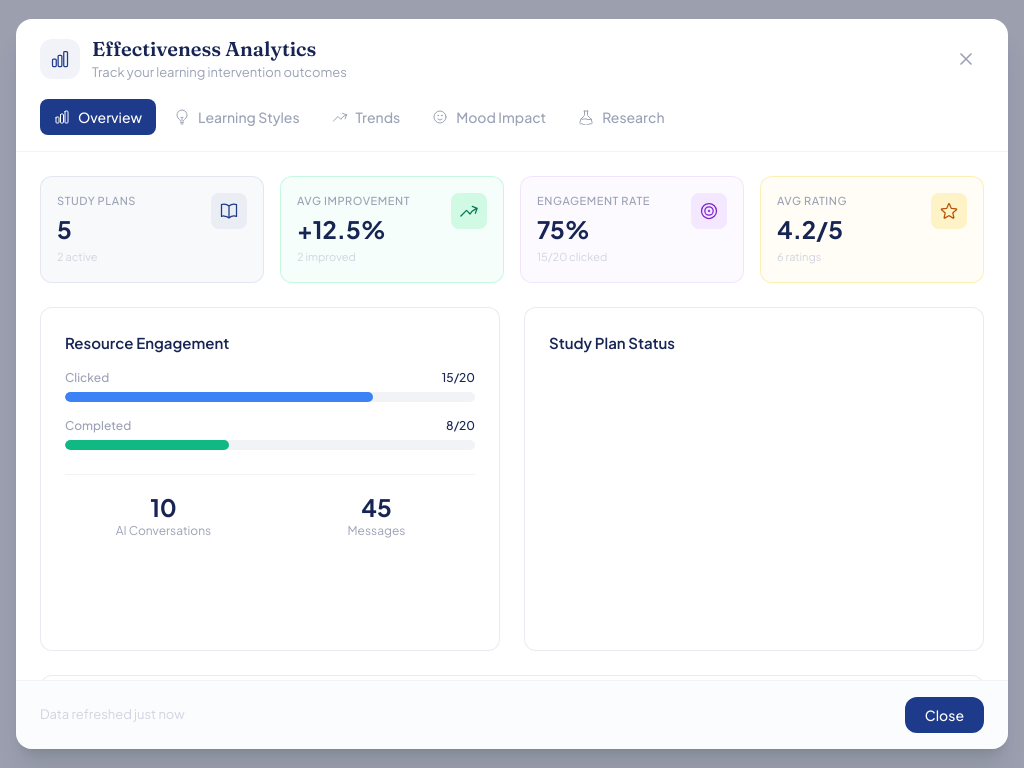
it: EffectivenessAnalytics › switches to Trends tab and shows chart content
This screenshot has width=1024, height=768.
What coordinates should you click on to do the following:
click the button "Trends"
I would click on:
 (366, 117)
Its box is 318,99 -> 414,135.
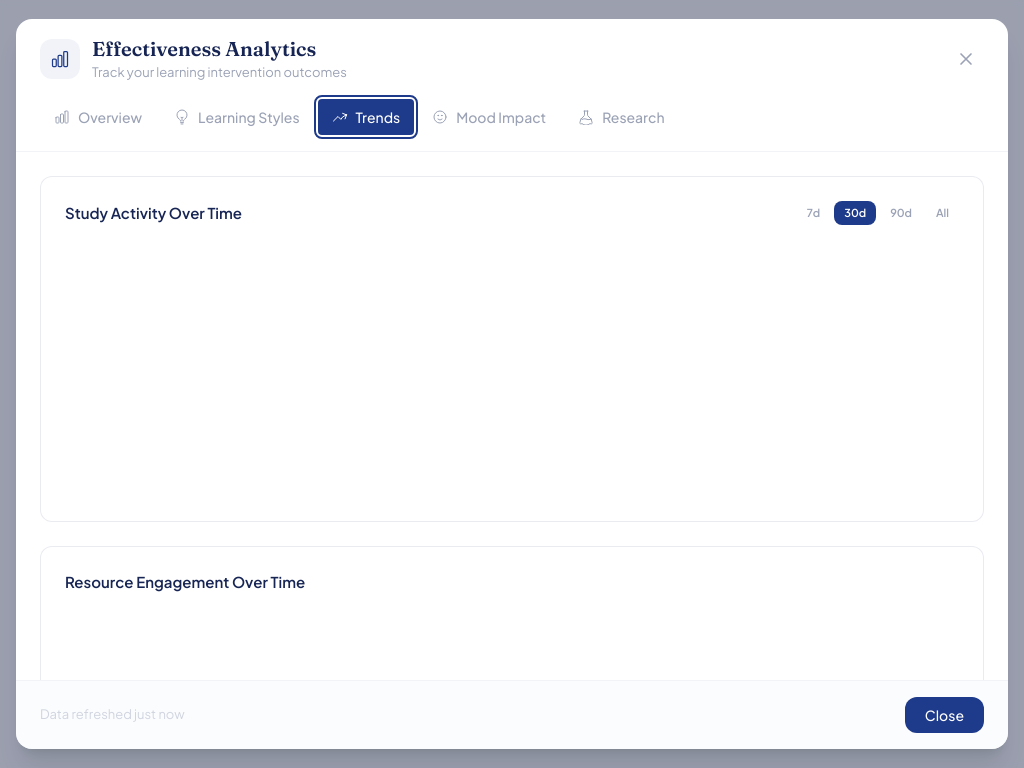
Now the heading "Study Activity Over Time" is shown, box 65,202 -> 242,224
Now the heading "Resource Engagement Over Time" is shown, box 65,572 -> 305,591
